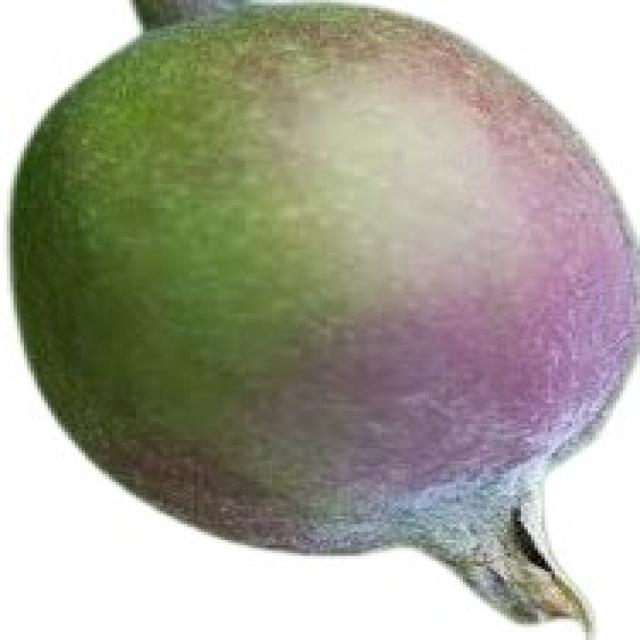20-_ripeness: (13, 0, 640, 625)
